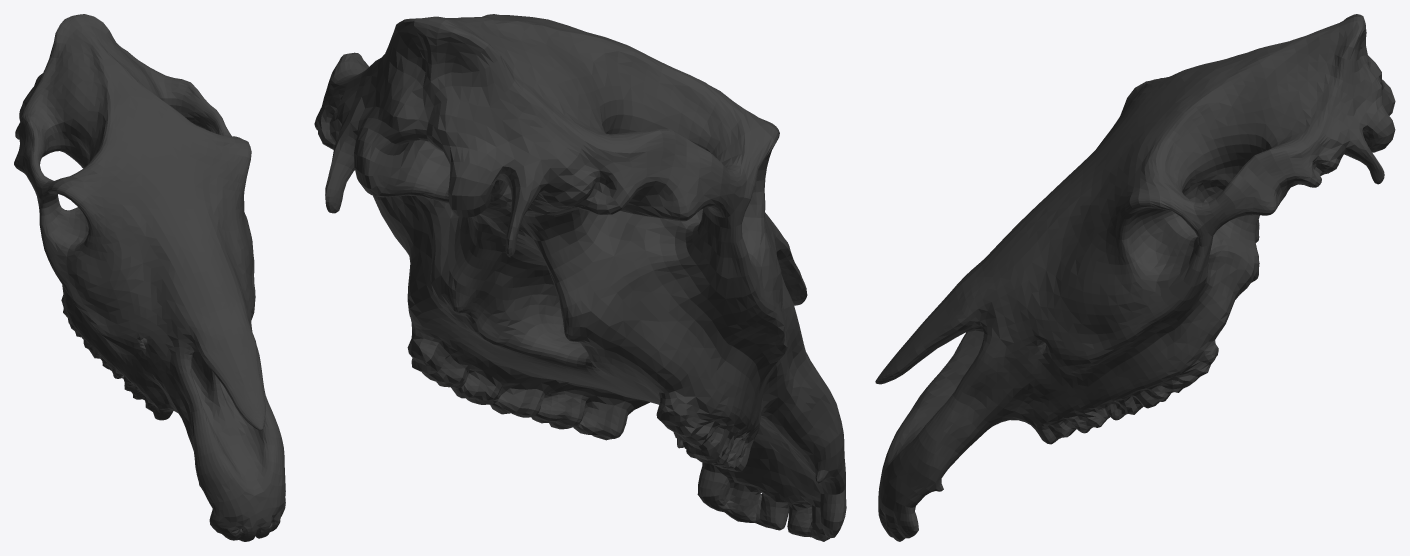
Rendered from Skull.glb.
3 views of the same model, side by side, from view 1: azimuth 30°, elevation 25°; view 2: azimuth 150°, elevation 25°; view 3: azimuth 270°, elevation 25° (orthographic). The views are drawn at different scales.
Visible parts, largest first — view 1: Skull; view 2: Skull; view 3: Skull.
Part boxes in pixels (x1,y1,x2,y2): Skull: (14,14,285,541); Skull: (314,14,846,541); Skull: (875,14,1395,541).
Size of the model in its own units: 0.3105 by 0.5913 by 0.5441.
Materials: 1 (1 with a texture image).
